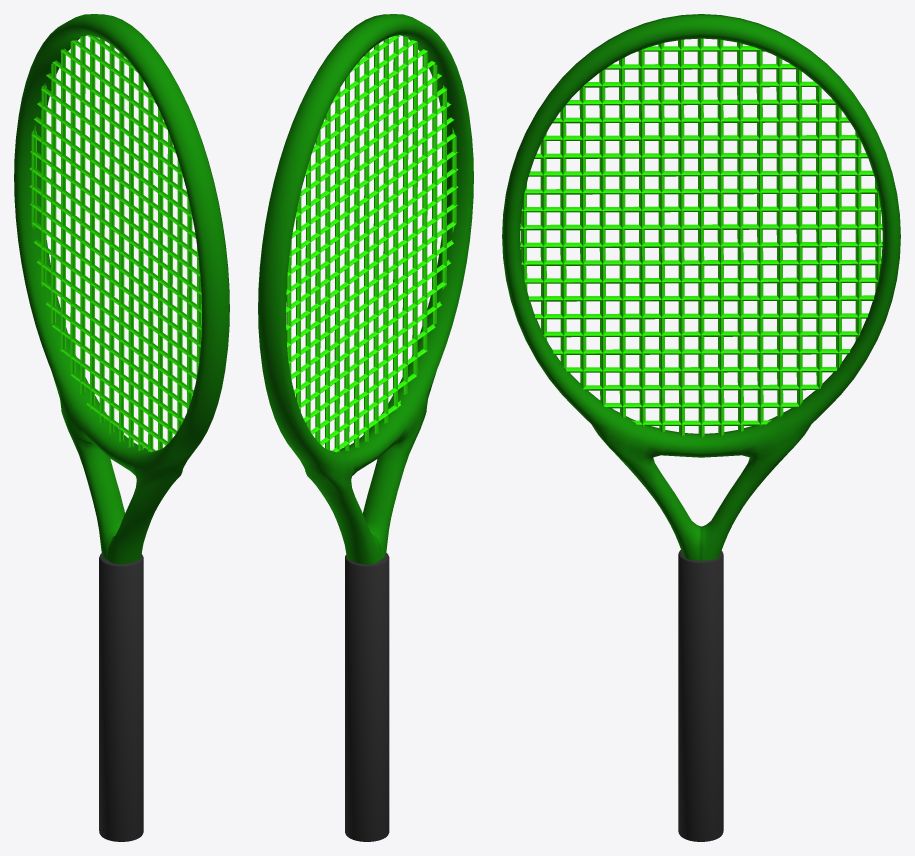
The model's file is TennisRacket.fbx.
The picture shows the model from 3 angles, left to right: view 1: azimuth 30°, elevation 25°; view 2: azimuth 150°, elevation 25°; view 3: azimuth 270°, elevation 25°; orthographic projection.
Parts seen in each view (by area): view 1: Circle, Vert.001, Vert, Cylinder.001; view 2: Circle, Vert.001, Vert, Cylinder.001; view 3: Vert, Circle, Vert.001, Cylinder.001.
Part boxes in pixels (x1,y1,x2,y2): Circle: [14, 14, 229, 564]; Vert.001: [31, 35, 201, 452]; Vert: [29, 35, 201, 451]; Cylinder.001: [99, 553, 143, 841]; Circle: [258, 14, 473, 564]; Vert.001: [286, 35, 456, 452]; Vert: [286, 35, 458, 452]; Cylinder.001: [345, 553, 389, 841]; Vert: [520, 46, 882, 425]; Circle: [502, 14, 900, 560]; Vert.001: [521, 38, 881, 437]; Cylinder.001: [678, 550, 723, 841].
Size of the model in its own units: 21.69 by 433 by 191.
